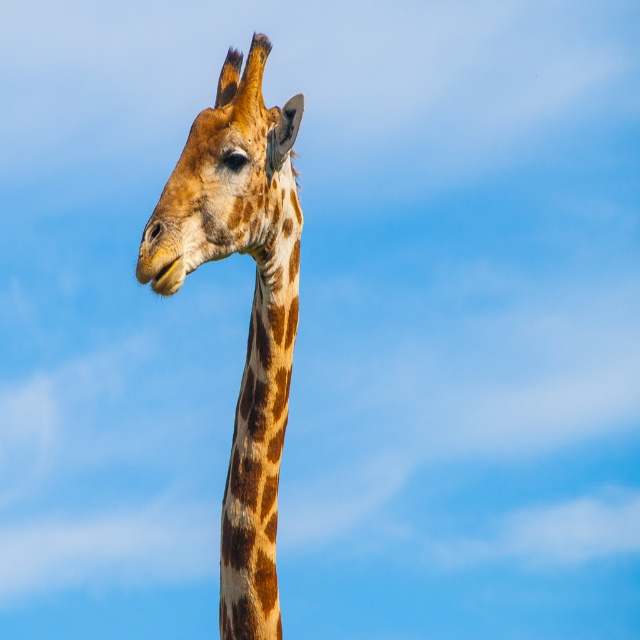Giraffe: (132, 32, 282, 639)
